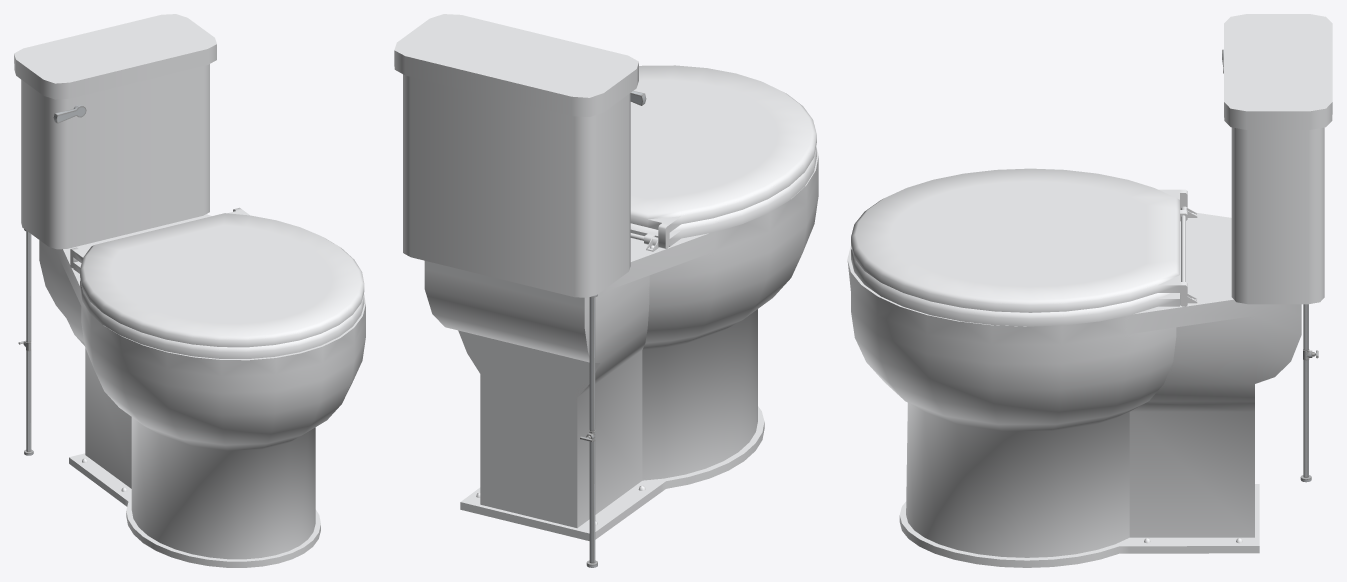
File: bath-toilet.glb
The picture shows the model from 3 angles, left to right: view 1: azimuth 30°, elevation 25°; view 2: azimuth 150°, elevation 25°; view 3: azimuth 270°, elevation 25°; orthographic projection. The views are drawn at different scales.
Parts seen in each view (by area): view 1: Toilet_Elongated_A, Toilet_Elongated_A_Seat_Cover, Toilet_Elongated_A_Seat; view 2: Toilet_Elongated_A, Toilet_Elongated_A_Seat_Cover, Toilet_Elongated_A_Seat; view 3: Toilet_Elongated_A, Toilet_Elongated_A_Seat_Cover, Toilet_Elongated_A_Seat.
Boxes of the visible parts, <box> form: Toilet_Elongated_A: <box>14,14,365,567</box>; Toilet_Elongated_A_Seat_Cover: <box>70,207,364,347</box>; Toilet_Elongated_A_Seat: <box>73,261,364,358</box>; Toilet_Elongated_A: <box>394,14,818,567</box>; Toilet_Elongated_A_Seat_Cover: <box>630,65,816,249</box>; Toilet_Elongated_A_Seat: <box>630,146,816,251</box>; Toilet_Elongated_A: <box>847,14,1332,567</box>; Toilet_Elongated_A_Seat_Cover: <box>851,168,1187,312</box>; Toilet_Elongated_A_Seat: <box>851,206,1197,326</box>.
Bounding box in the file's own units: 0.4191 × 0.6633 × 0.6344.
Materials: 3 (3 with a texture image).
